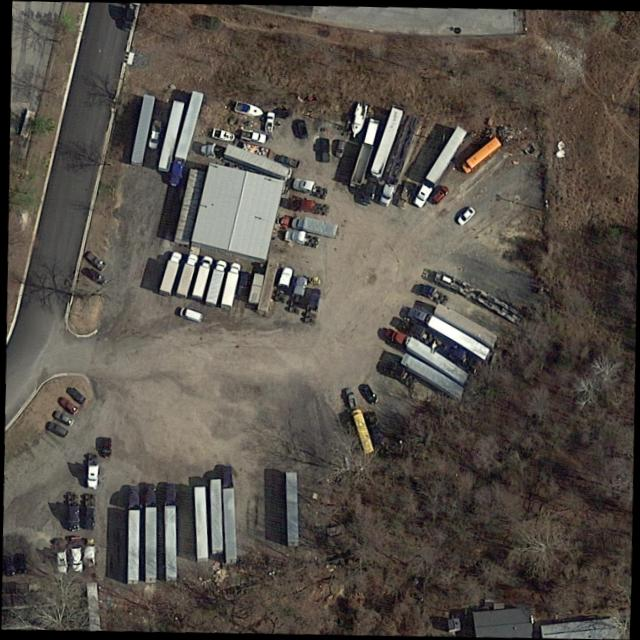large-vehicle: (383, 325, 469, 386), (411, 124, 466, 209), (406, 306, 490, 361), (377, 113, 419, 208), (166, 88, 205, 187), (458, 135, 503, 177), (220, 465, 237, 565), (349, 406, 374, 456), (126, 482, 138, 584), (142, 483, 154, 583), (289, 214, 336, 238), (218, 260, 240, 311), (174, 252, 197, 300), (157, 249, 180, 296), (189, 255, 213, 300), (164, 485, 175, 582), (204, 260, 225, 304)
ship: (347, 100, 369, 141), (233, 100, 263, 119)
small-vehicle: (83, 250, 108, 274), (176, 303, 204, 324), (146, 117, 162, 153), (356, 382, 378, 405), (209, 126, 235, 144), (82, 265, 105, 285), (50, 408, 73, 428), (56, 396, 78, 416), (65, 384, 85, 405), (455, 206, 475, 227), (239, 129, 265, 145), (44, 421, 67, 439), (429, 184, 448, 205), (342, 386, 357, 409), (277, 155, 299, 168), (2, 556, 15, 577), (263, 111, 274, 133), (100, 438, 111, 459), (334, 140, 343, 157), (17, 554, 25, 573)
